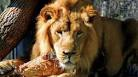lion: (26, 1, 138, 76)
